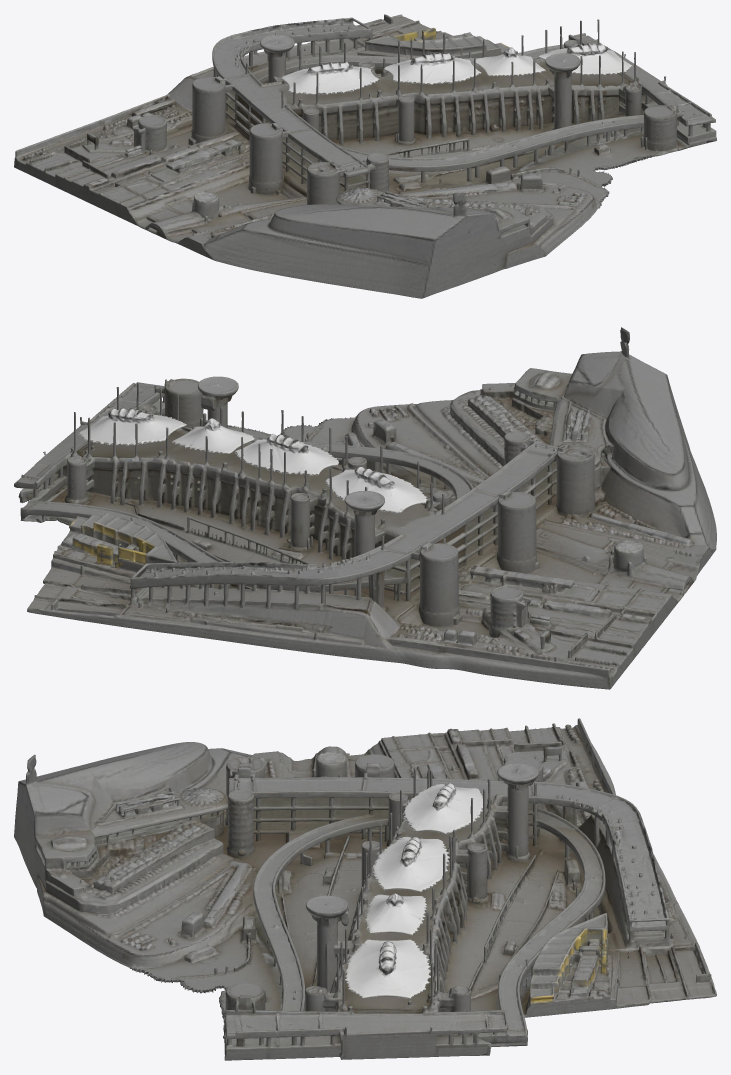
Rendered from jamarat.glb.
3 renders of one model, top to bottom at view 1: azimuth 30°, elevation 25°; view 2: azimuth 150°, elevation 25°; view 3: azimuth 270°, elevation 25°, orthographic. The views are drawn at different scales.
Visible parts, largest first — view 1: tripo_node_203910fe-cc7f-48ad-a206-1b3eb440ce1d; view 2: tripo_node_203910fe-cc7f-48ad-a206-1b3eb440ce1d; view 3: tripo_node_203910fe-cc7f-48ad-a206-1b3eb440ce1d.
Part boxes in pixels (box(x1,y1,x2,y2)): tripo_node_203910fe-cc7f-48ad-a206-1b3eb440ce1d: box(14, 14, 716, 298); tripo_node_203910fe-cc7f-48ad-a206-1b3eb440ce1d: box(14, 327, 716, 689); tripo_node_203910fe-cc7f-48ad-a206-1b3eb440ce1d: box(14, 718, 716, 1060).
Size of the model in its own units: 0.9812 by 0.1517 by 0.9003.
Materials: 1 (1 with a texture image).
